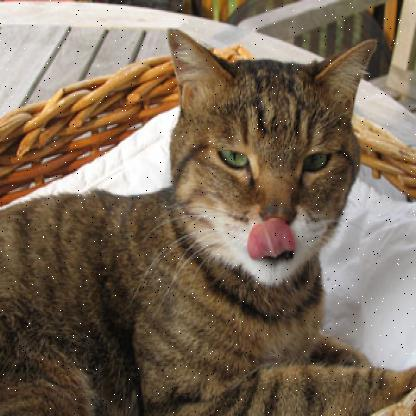cat: (2, 22, 415, 414)
